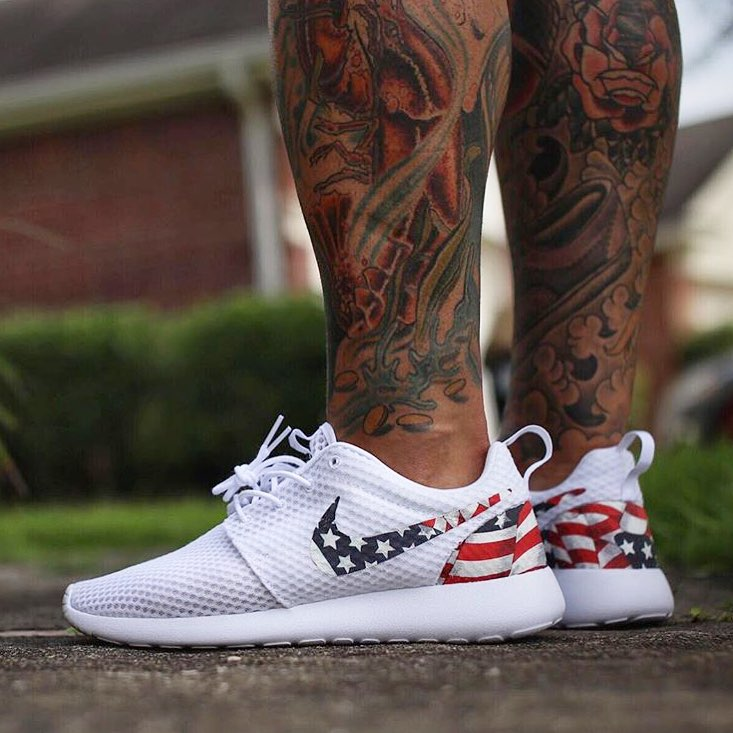sneaker: (42, 382, 582, 673), (480, 378, 683, 645)
